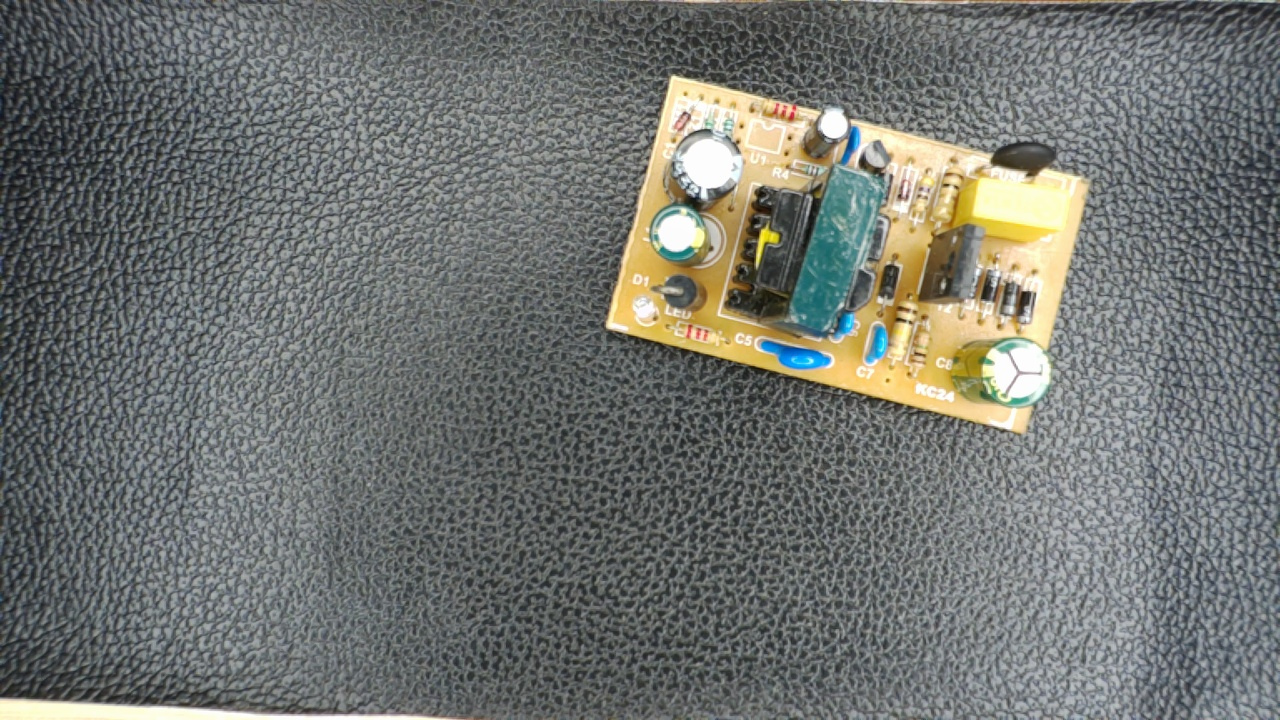fuse: (972, 135, 1065, 182)
hv_capacitor: (950, 333, 1052, 408)
mov: (752, 332, 836, 377)
